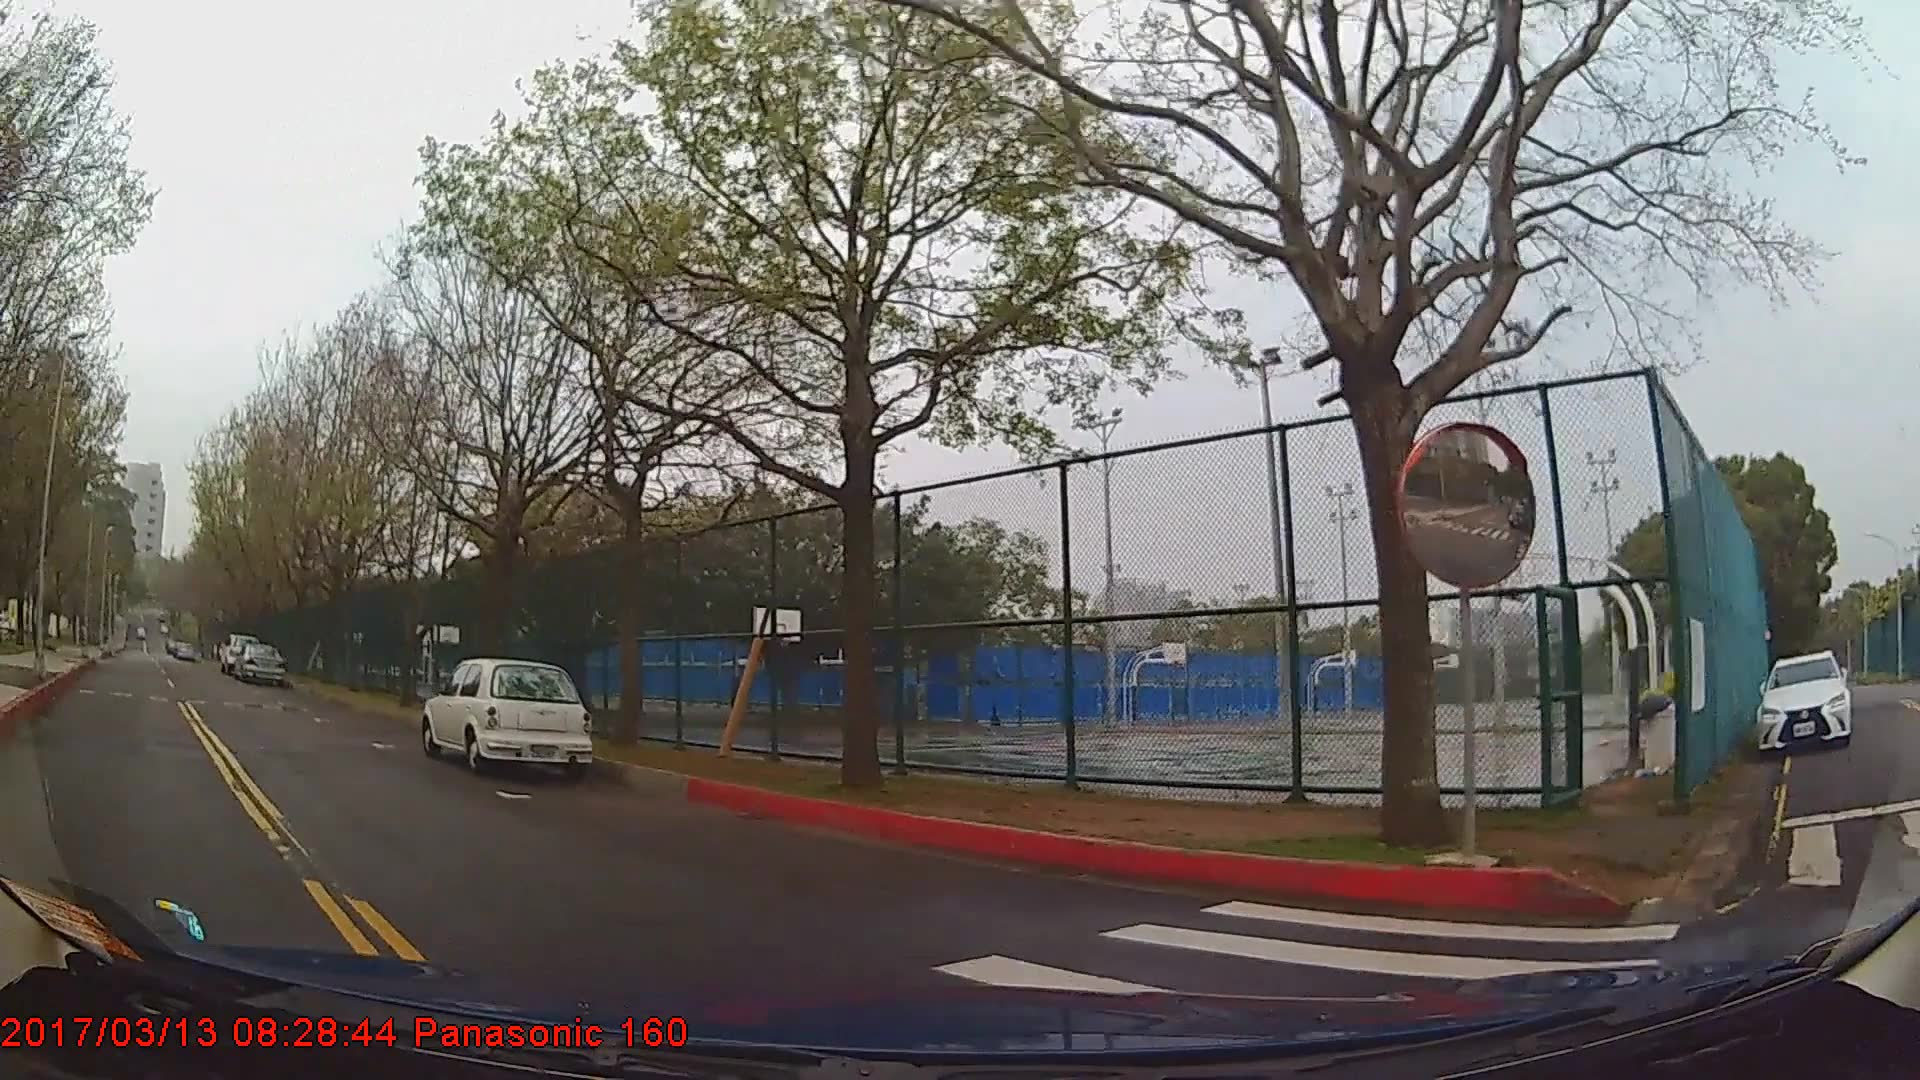vehicle: (423, 659, 593, 773), (1753, 647, 1847, 752), (236, 641, 284, 684)
